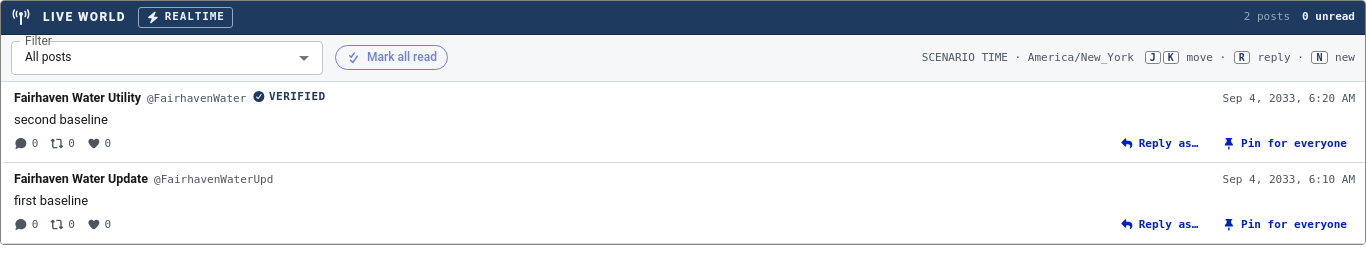
Scenario: AC — Pin for everyone / Unpin › a non-PinForAllError failure still shows a readable alert
Click the button with test id "live-world-pin" below "Sep 4, 2033, 6:10 AM" at {"x": 1285, "y": 225}, box left=1214, top=213, right=1355, bottom=236
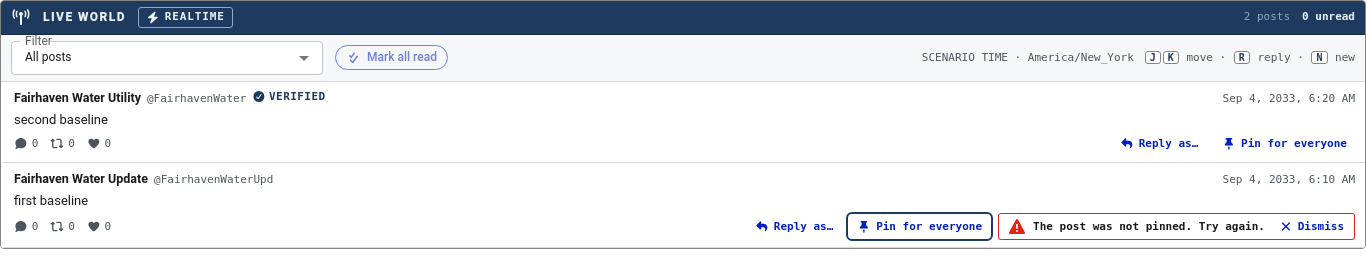
expect the message "The post was not pinned. Try again. Dismiss" is shown: met, box left=998, top=213, right=1355, bottom=240
